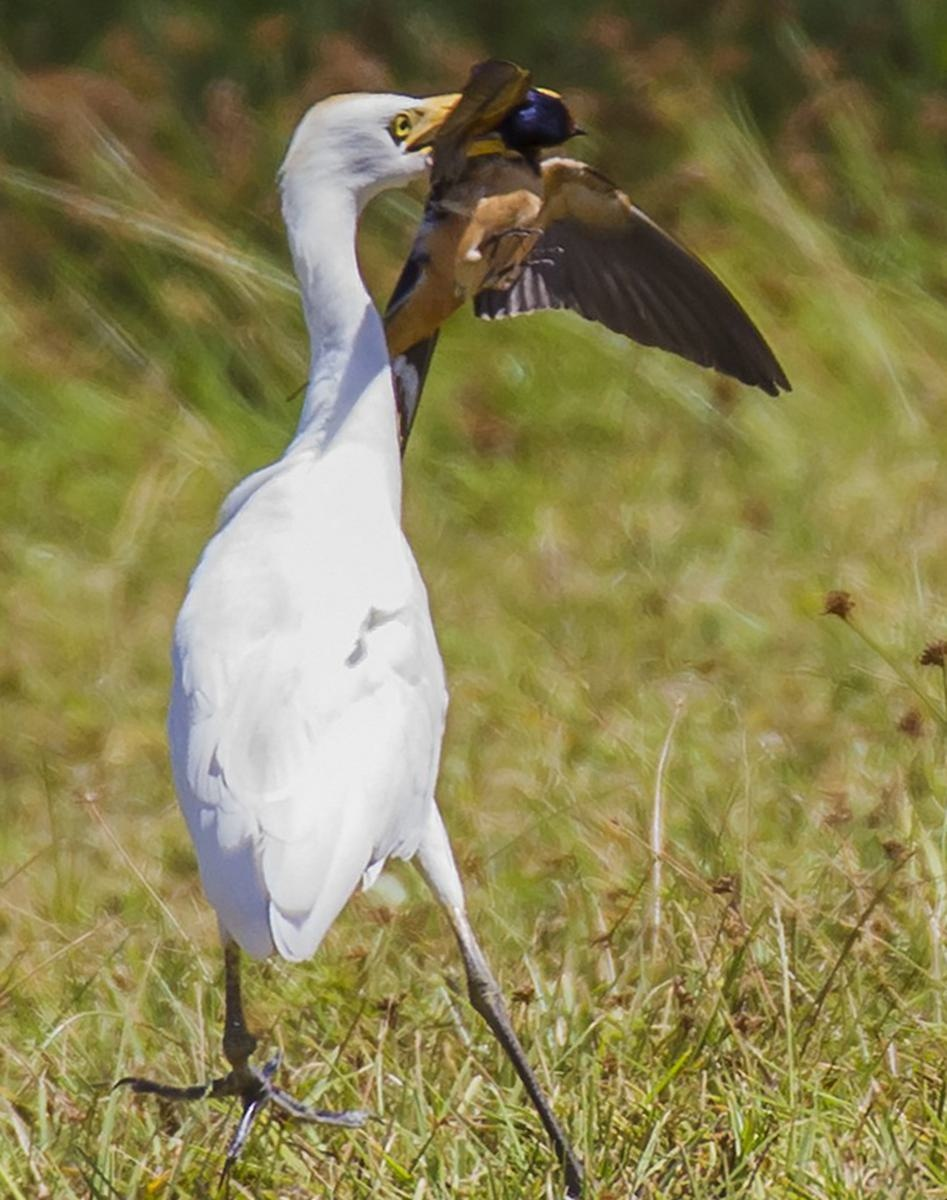egret: (145, 60, 546, 1187)
